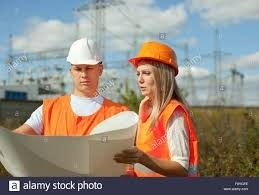helmet: (126, 40, 181, 79), (64, 36, 107, 67)
person with full safety: (17, 36, 131, 136), (123, 40, 199, 178)
safety vest: (133, 99, 195, 178), (43, 94, 123, 134)
